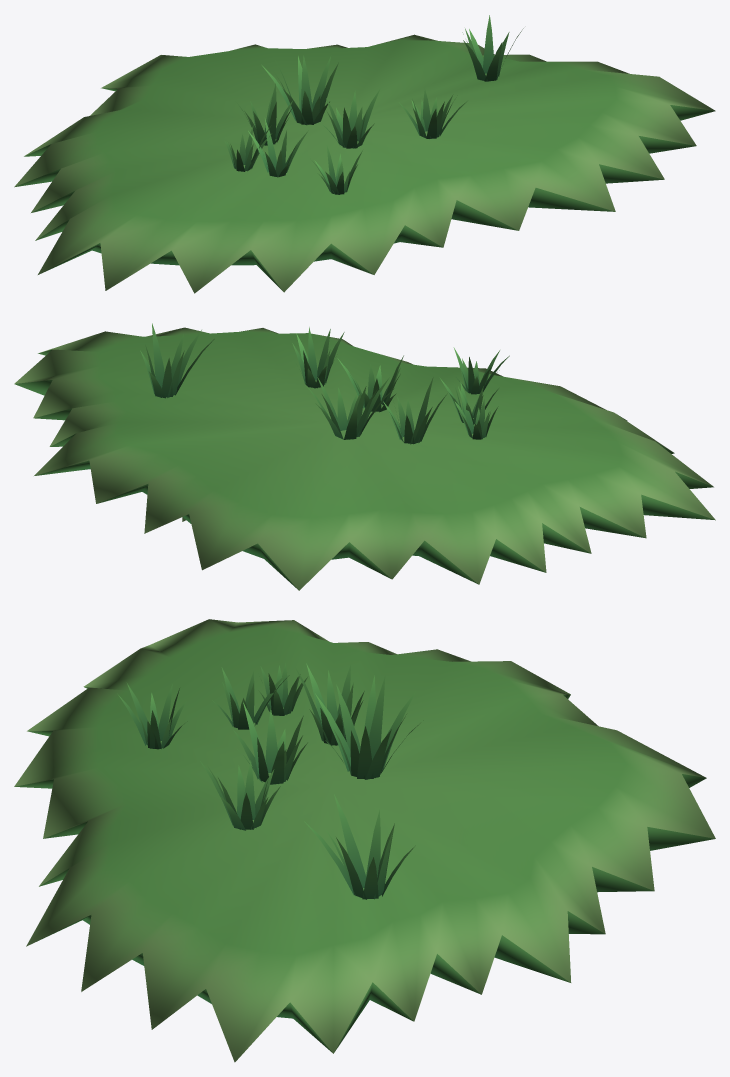
Rendered from grass_carpets.glb.
The picture shows the model from 3 angles, top to bottom: view 1: azimuth 30°, elevation 25°; view 2: azimuth 150°, elevation 25°; view 3: azimuth 270°, elevation 25°; orthographic projection. The views are drawn at different scales.
Parts seen in each view (by area): view 1: grass_carpets_2, grass_carpets_1, grass_carpets_0; view 2: grass_carpets_2, grass_carpets_1, grass_carpets_0; view 3: grass_carpets_2, grass_carpets_1, grass_carpets_0.
Part boxes in pixels (box(x1,y1,x2,y2)): grass_carpets_2: box(14, 15, 715, 293); grass_carpets_1: box(237, 83, 308, 177); grass_carpets_0: box(321, 88, 380, 148); grass_carpets_2: box(14, 323, 715, 590); grass_carpets_1: box(182, 377, 498, 521); grass_carpets_0: box(337, 355, 403, 412); grass_carpets_2: box(14, 619, 715, 1062); grass_carpets_1: box(212, 663, 364, 745); grass_carpets_0: box(233, 702, 307, 784).
Size of the model in its own units: 5.58 by 0.815 by 3.76.
